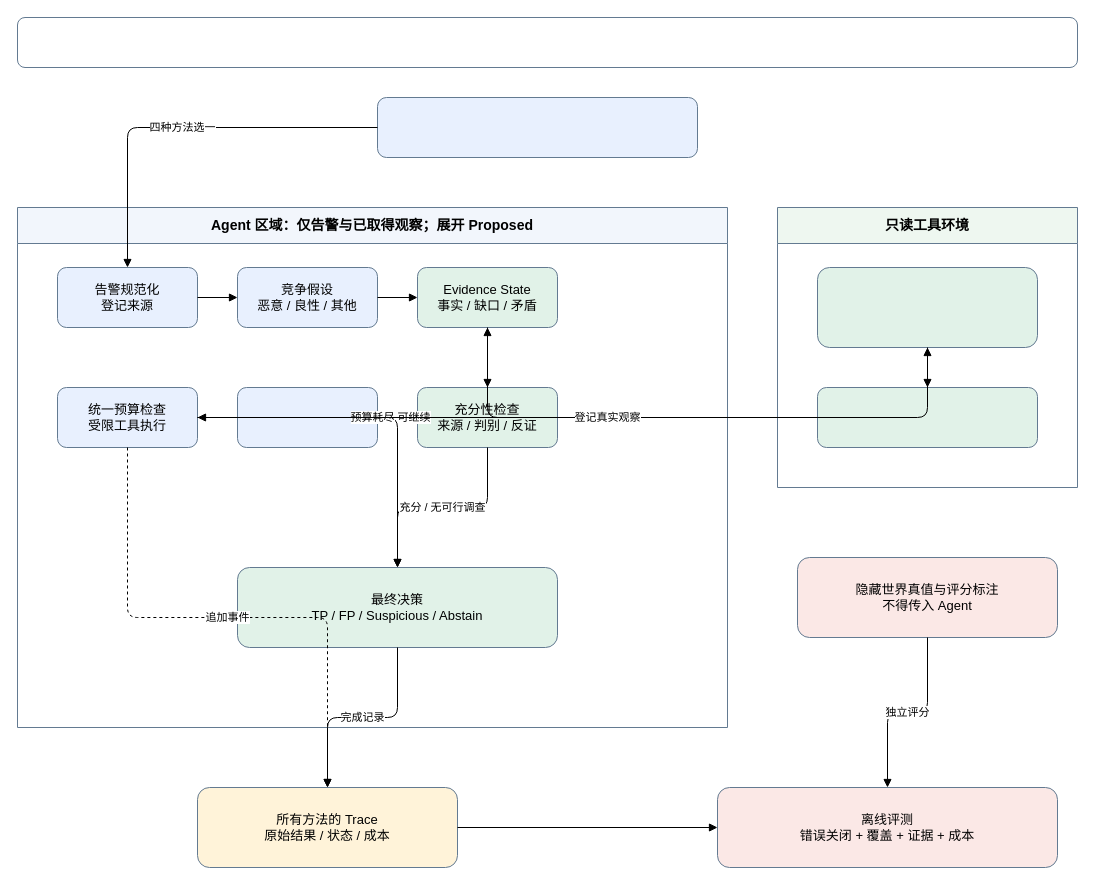
The diagram is 1095 pixels wide and 885 high, and some of its shapes have lost their labels. Here are the shapes that lost their labels. From the top down, the centre of each, then its label:
pixel 547 42: Evidence-Aware Investigation | Phase 1
pixel 537 127: 统一实验控制 同模型 / 同预算 / 同工具
pixel 927 307: 5 类 Mock Tools SIEM / TI / Asset History / ATT&CK
pixel 307 417: 动态调查计划 证据目标 / 成本
pixel 927 417: 仅返回匹配记录 覆盖 / 来源 / 费用
